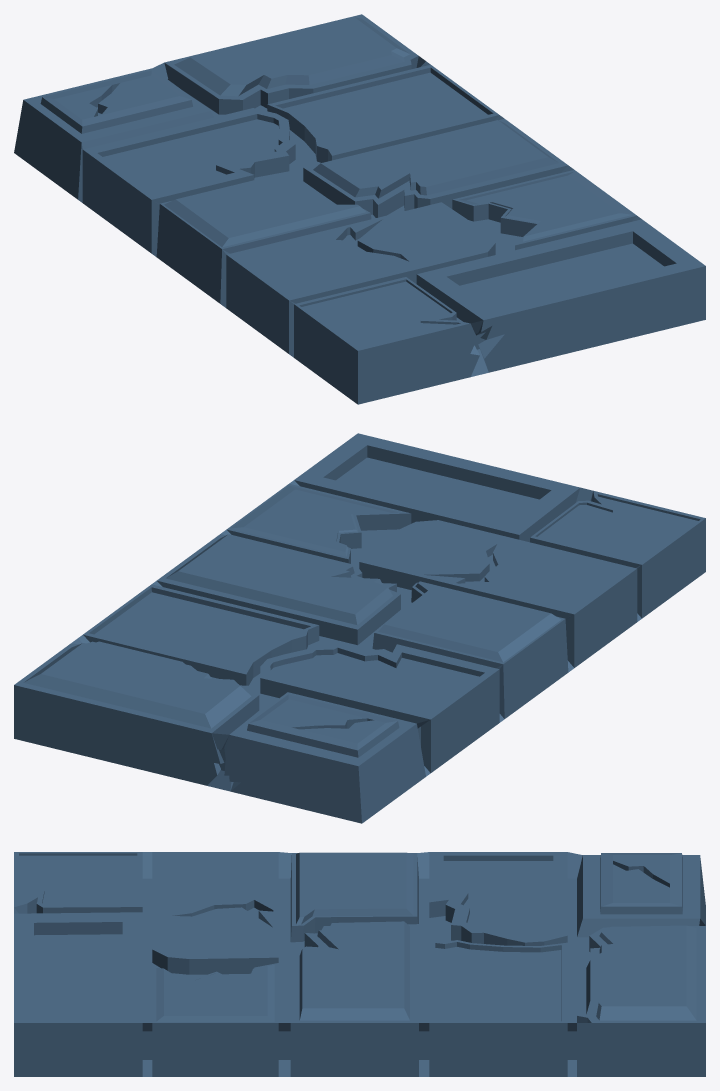
Rendered from RotatingPlatform.fbx.
3 renders of one model, top to bottom at view 1: azimuth 30°, elevation 25°; view 2: azimuth 150°, elevation 25°; view 3: azimuth 270°, elevation 25°, orthographic.
Visible parts, largest first — view 1: Cube; view 2: Cube; view 3: Cube.
Boxes of the visible parts, x1,y1,x2,y2 form: Cube: (14,14,705,404); Cube: (14,433,705,823); Cube: (14,852,705,1076).
Bounding box in the file's own units: 392 × 70.45 × 671.
